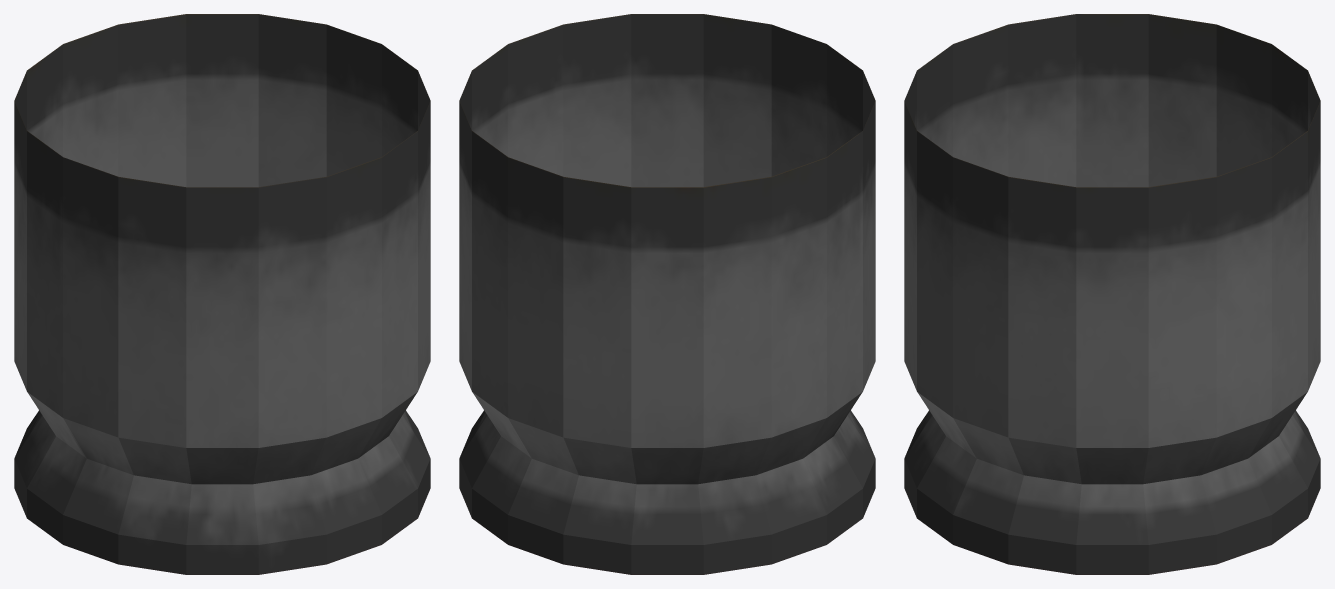
The model's file is 2mmcase.glb.
3 renders of one model, left to right at view 1: azimuth 30°, elevation 25°; view 2: azimuth 150°, elevation 25°; view 3: azimuth 270°, elevation 25°, orthographic.
Parts seen in each view (by area): view 1: emptycase; view 2: emptycase; view 3: emptycase.
Boxes of the visible parts, x1,y1,x2,y2 form: emptycase: (14, 14, 430, 574); emptycase: (459, 14, 875, 574); emptycase: (904, 14, 1320, 574).
Bounding box in the file's own units: 0.0101 × 0.0106 × 0.0103.
1 material, 1 textured.
